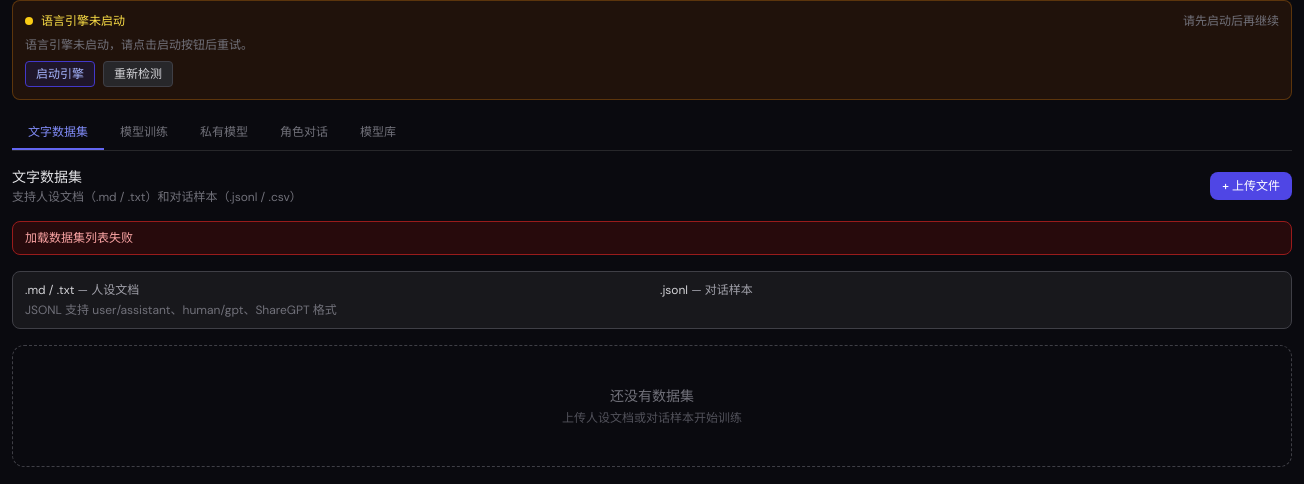
Test case: rechecks runtime when user clicks refresh
Expected: the text "语言引擎未启动" is shown, [41, 13, 125, 29]
Click the button "重新检测" at (138, 74), box [103, 61, 173, 87]
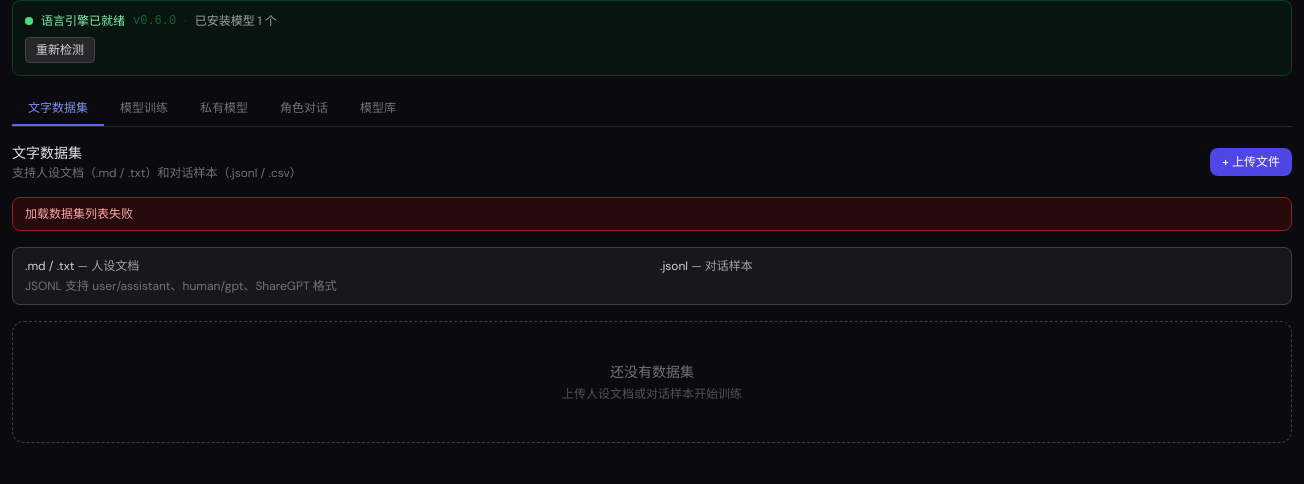
Expected: the text "语言引擎已就绪" is shown, [41, 13, 125, 29]
